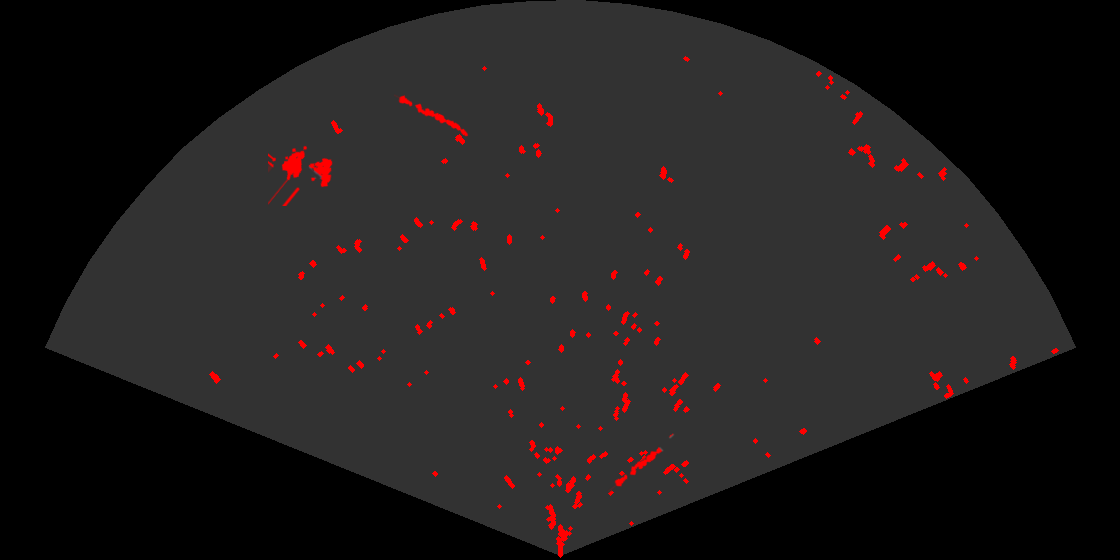cage: (268, 144, 334, 206)
chain: (608, 432, 675, 494), (394, 93, 470, 138)
